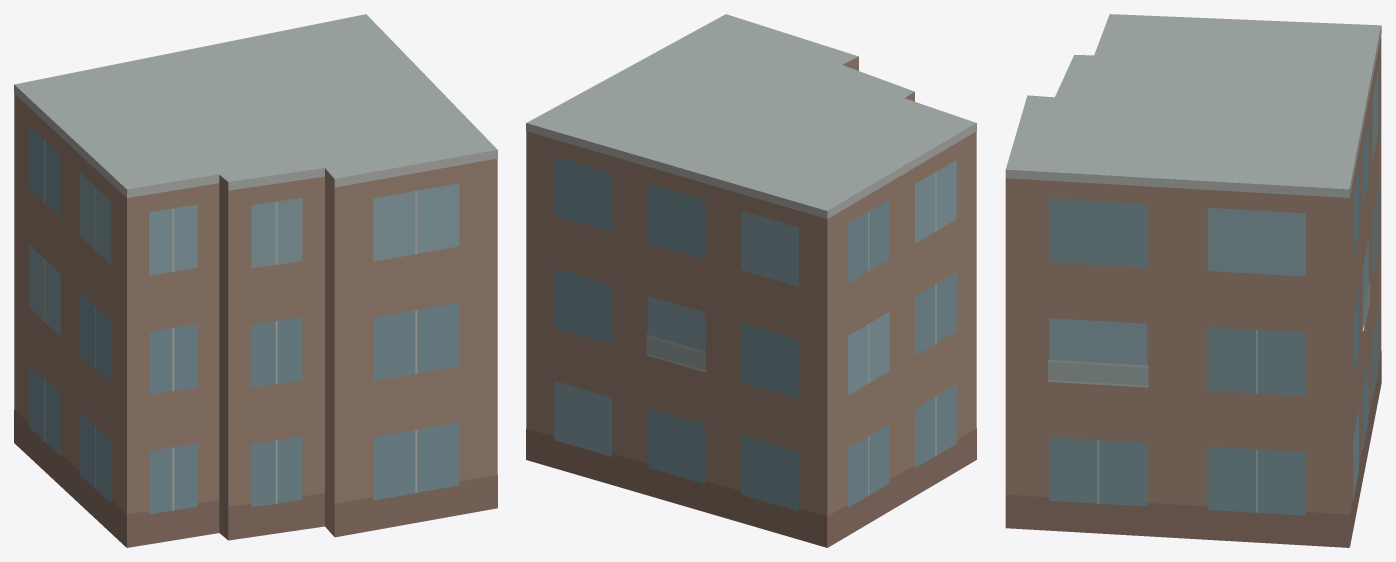
Rendered from survey-upis-32993847.glb.
The picture shows the model from 3 angles, left to right: view 1: azimuth 30°, elevation 25°; view 2: azimuth 150°, elevation 25°; view 3: azimuth 270°, elevation 25°; orthographic projection. The views are drawn at different scales.
Visible parts, largest first — view 1: survey-upis-32993847.tmp; view 2: survey-upis-32993847.tmp; view 3: survey-upis-32993847.tmp.
Part boxes in pixels (box(x1,y1,x2,y2)): survey-upis-32993847.tmp: box(14, 14, 497, 547); survey-upis-32993847.tmp: box(526, 14, 976, 547); survey-upis-32993847.tmp: box(1005, 14, 1381, 547).
Size of the model in its own units: 10.66 by 10.15 by 9.65.
